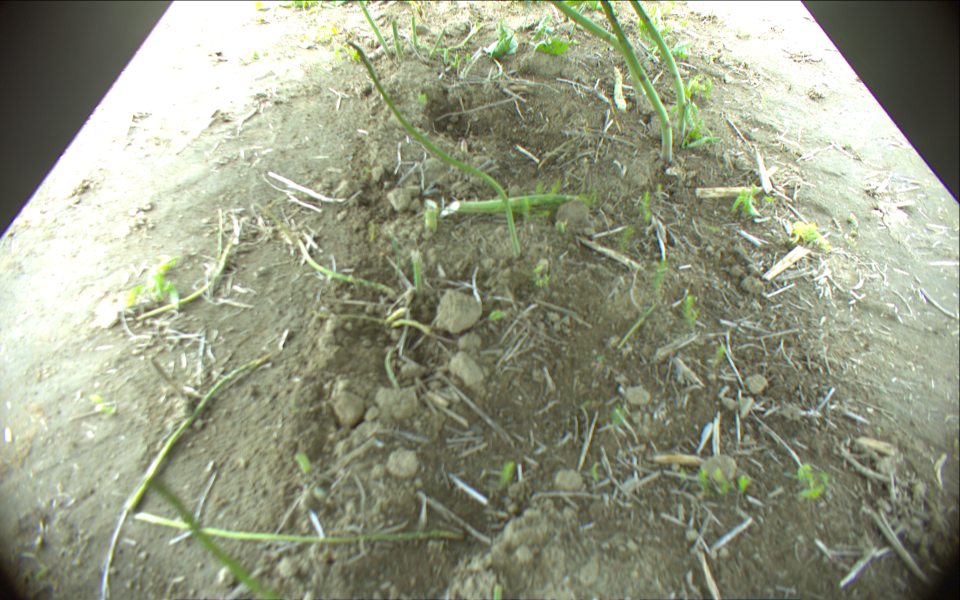aspa: (349, 39, 521, 257), (122, 351, 278, 511), (145, 477, 285, 600), (596, 1, 675, 162), (134, 509, 464, 546), (122, 222, 238, 321), (547, 1, 646, 99), (278, 220, 397, 300), (627, 1, 691, 126), (438, 189, 587, 216), (428, 22, 487, 53), (358, 1, 391, 56), (409, 248, 425, 296), (427, 24, 446, 58), (391, 18, 404, 59), (426, 201, 436, 233), (411, 15, 420, 50)
